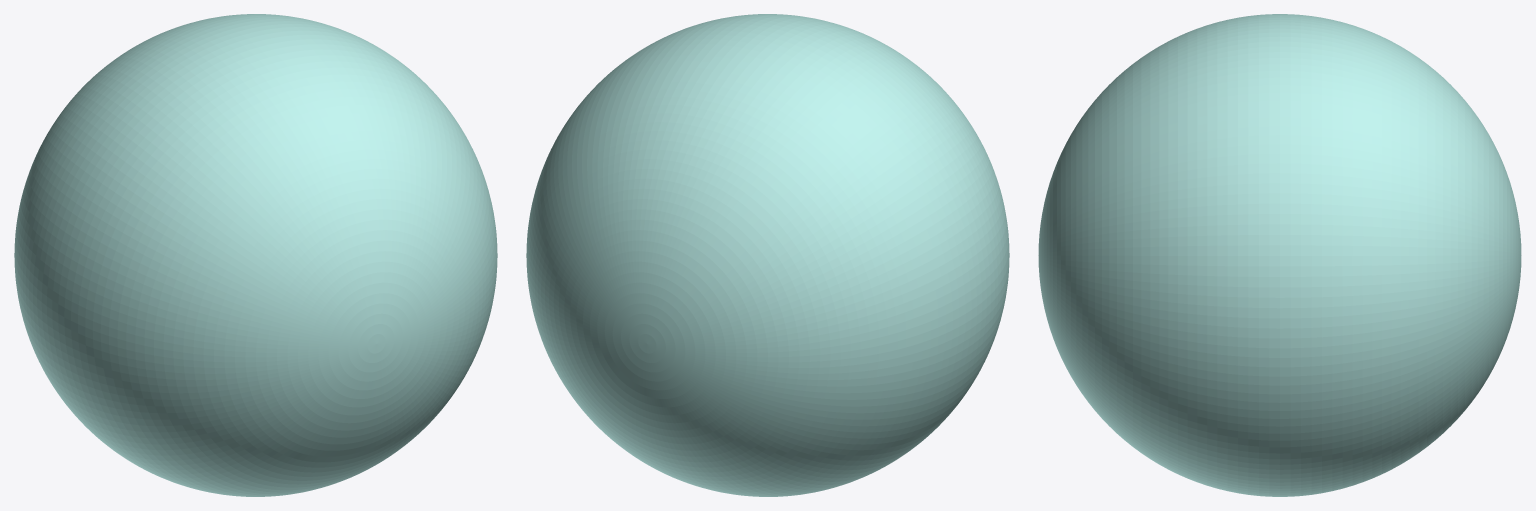
Rendered from EEZYbotARM_Mk2_robot_base_vis_10.dae.
3 views of the same model, side by side, from view 1: azimuth 30°, elevation 25°; view 2: azimuth 150°, elevation 25°; view 3: azimuth 270°, elevation 25° (orthographic).
Visible parts, largest first — view 1: node; view 2: node; view 3: node.
Part boxes in pixels (x1,y1,x2,y2): node: (14,14,497,496); node: (526,14,1009,496); node: (1038,14,1521,496).
Bounding box in the file's own units: 0.006 × 0.006 × 0.006.
